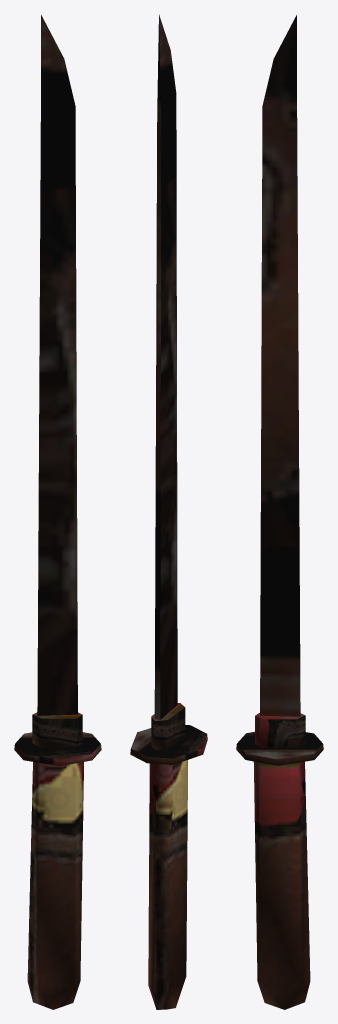
Rendered from Shotgun_wuqi_Magazine_Main_(000725).glb.
The picture shows the model from 3 angles, left to right: view 1: azimuth 90°, elevation 25°; view 2: azimuth 150°, elevation 25°; view 3: azimuth 270°, elevation 25°; orthographic projection.
Parts seen in each view (by area): view 1: wuqi; view 2: wuqi; view 3: wuqi.
Boxes of the visible parts, box(x1,y1,x2,y2) form: wuqi: box(14, 15, 101, 1009); wuqi: box(130, 14, 207, 1009); wuqi: box(236, 15, 323, 1009).
Bounding box in the file's own units: 0.1114 × 1.6 × 0.1274.
1 material, 1 textured.
